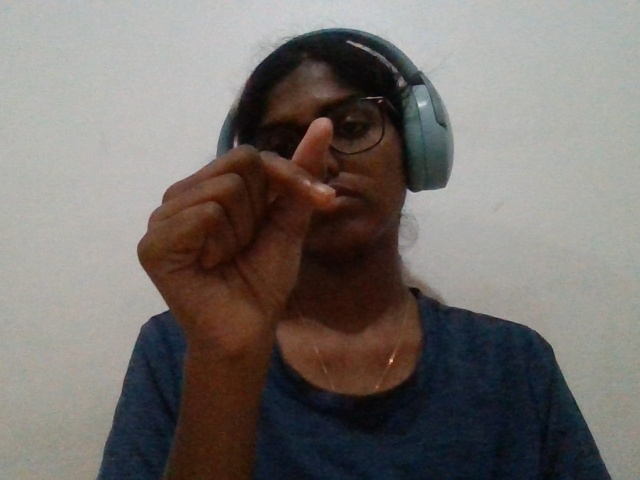G: (112, 106, 355, 480)
